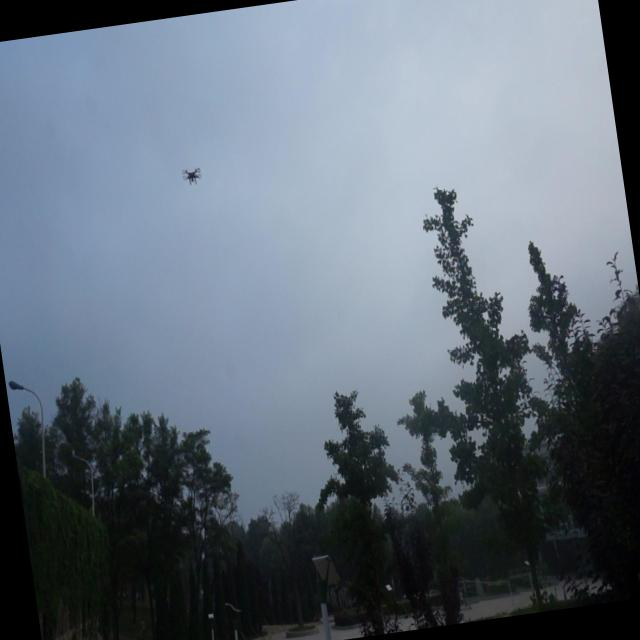drone: (180, 163, 205, 190)
